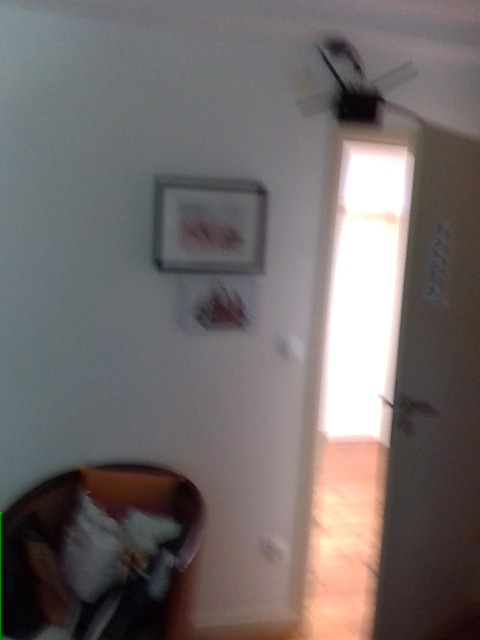semi: (287, 126, 479, 636)
